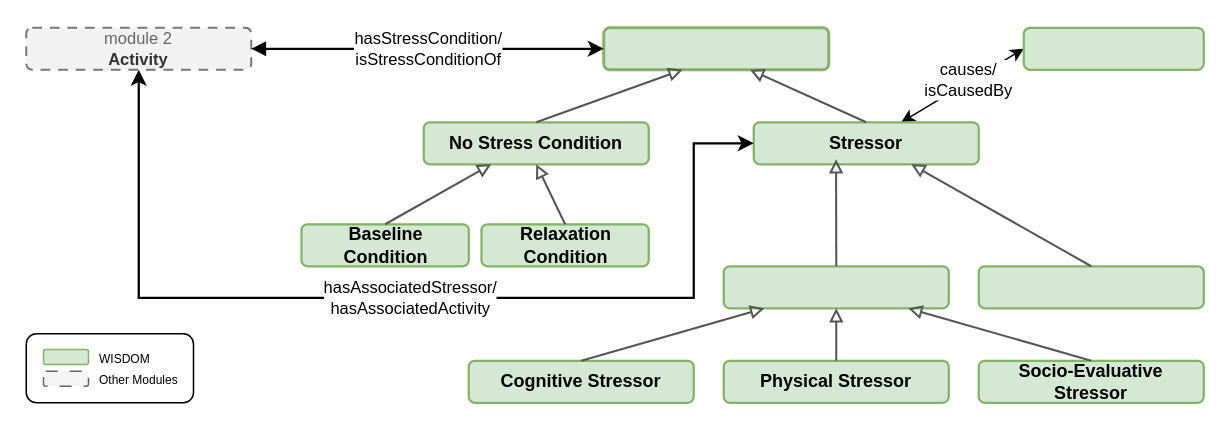
The diagram is 1232 pixels wide and 429 high, and some of its shapes have lost their labels. The shapes that lost their labels are listed below. From the top down, each one's centre as x and y in pixels, then its label:
At (x=716, y=48): "Stress Condition".
At (x=1113, y=48): "Stress Response".
At (x=835, y=286): "Acute Stressor".
At (x=1090, y=286): "Chronic Stressor".
